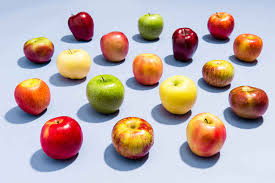apple: (41, 117, 85, 157), (187, 112, 227, 155), (114, 117, 154, 157), (87, 74, 126, 114), (228, 85, 271, 120), (160, 78, 197, 116), (13, 78, 53, 113), (202, 58, 236, 89), (57, 50, 91, 80), (133, 54, 163, 86), (21, 36, 55, 64), (171, 28, 199, 62), (234, 32, 263, 64), (135, 11, 166, 40), (67, 11, 95, 43), (206, 13, 238, 41), (100, 32, 129, 62)
